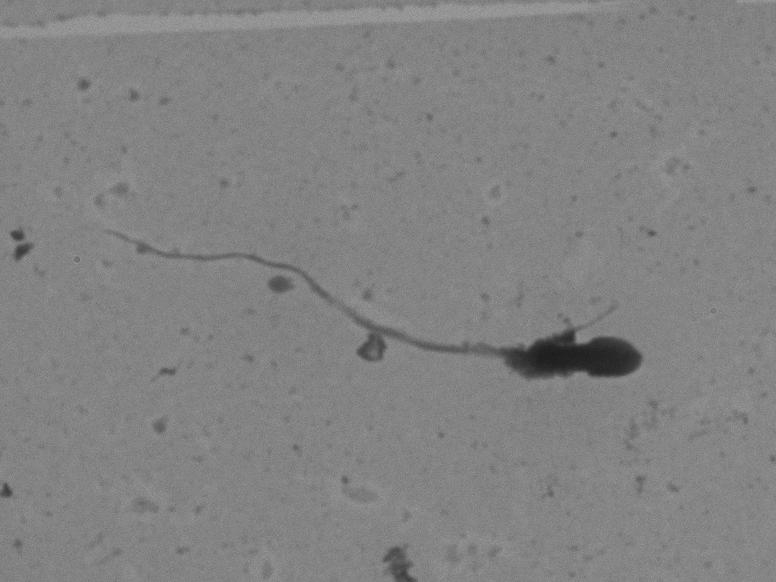Abnormal: (100, 183, 672, 411)
